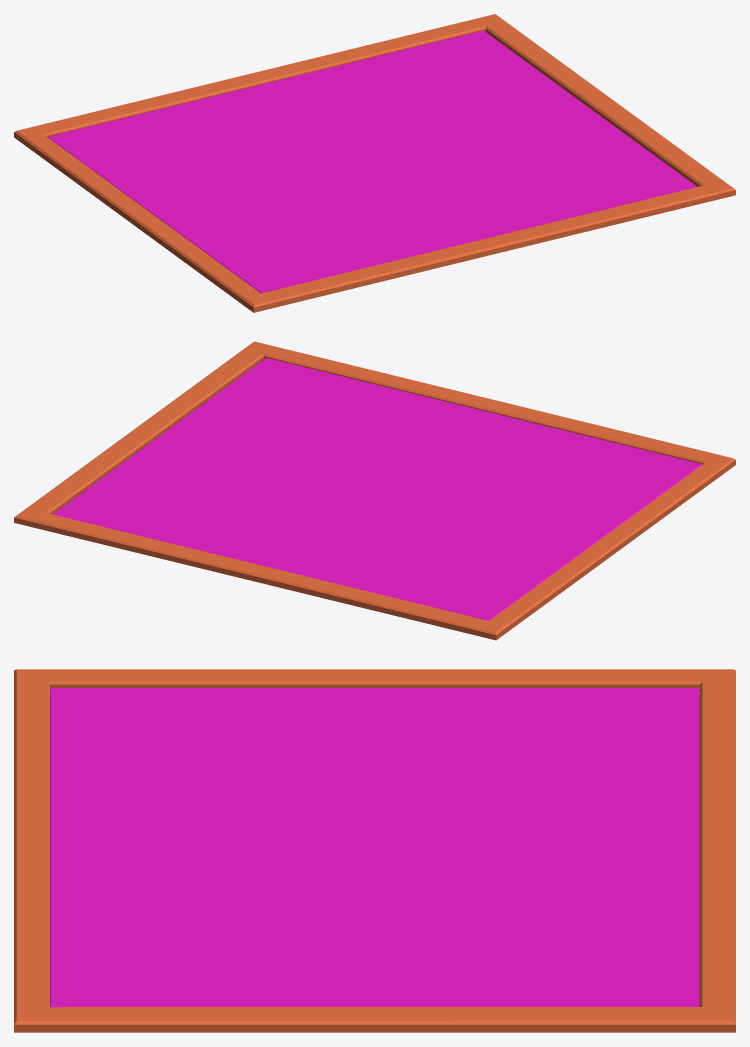
The model's file is L1V2_Floor_V2.fbx.
3 renders of one model, top to bottom at view 1: azimuth 30°, elevation 25°; view 2: azimuth 150°, elevation 25°; view 3: azimuth 270°, elevation 25°, orthographic. The views are drawn at different scales.
Parts seen in each view (by area): view 1: Floor.End.001; view 2: Floor.End.001; view 3: Floor.End.001.
Boxes of the visible parts, left/top/right/bottom form: Floor.End.001: left=14, top=14, right=735, bottom=312; Floor.End.001: left=14, top=341, right=735, bottom=640; Floor.End.001: left=14, top=669, right=735, bottom=1032.
Size of the model in its own units: 1169 by 16.05 by 1007.
